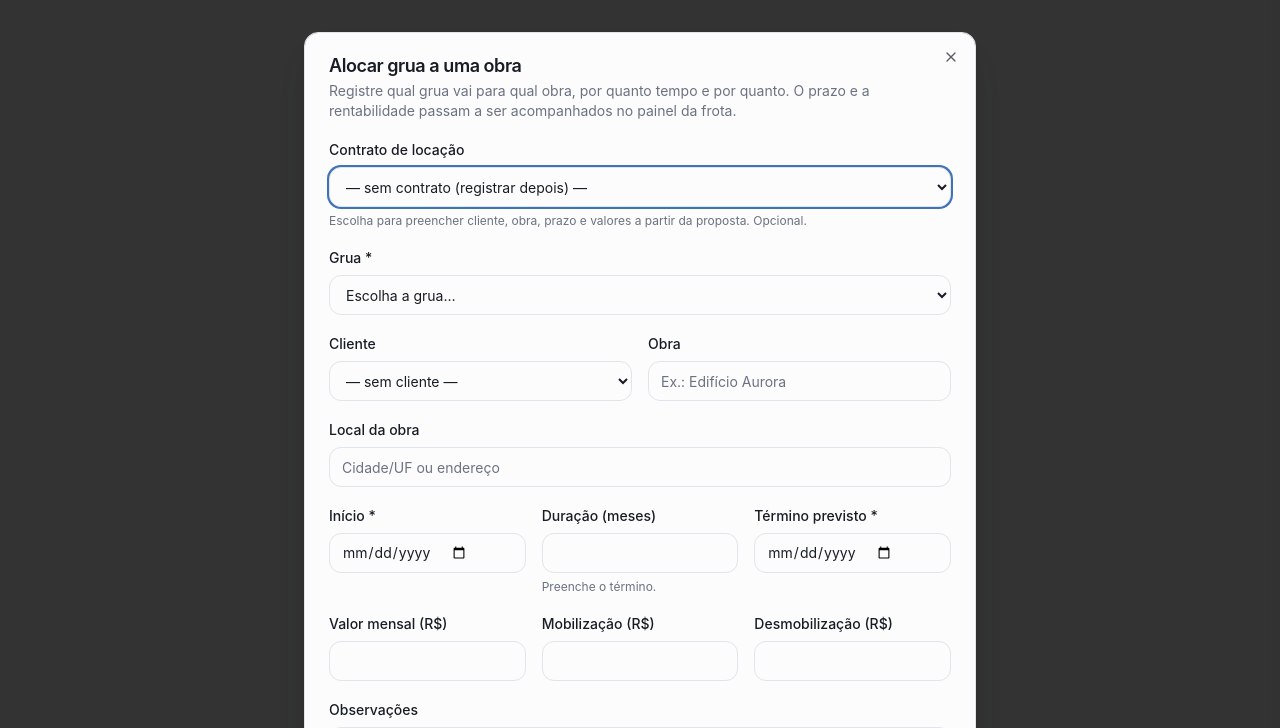
alocar grua a uma obra › sem contrato fixo: escolher um contrato traz os dados da proposta
The image size is (1280, 728).
Select "CTR260009 — Beta Ltda (assinado)" in the dropdown labelled "Contrato de locação" at (640, 187), box [329,167,951,207]
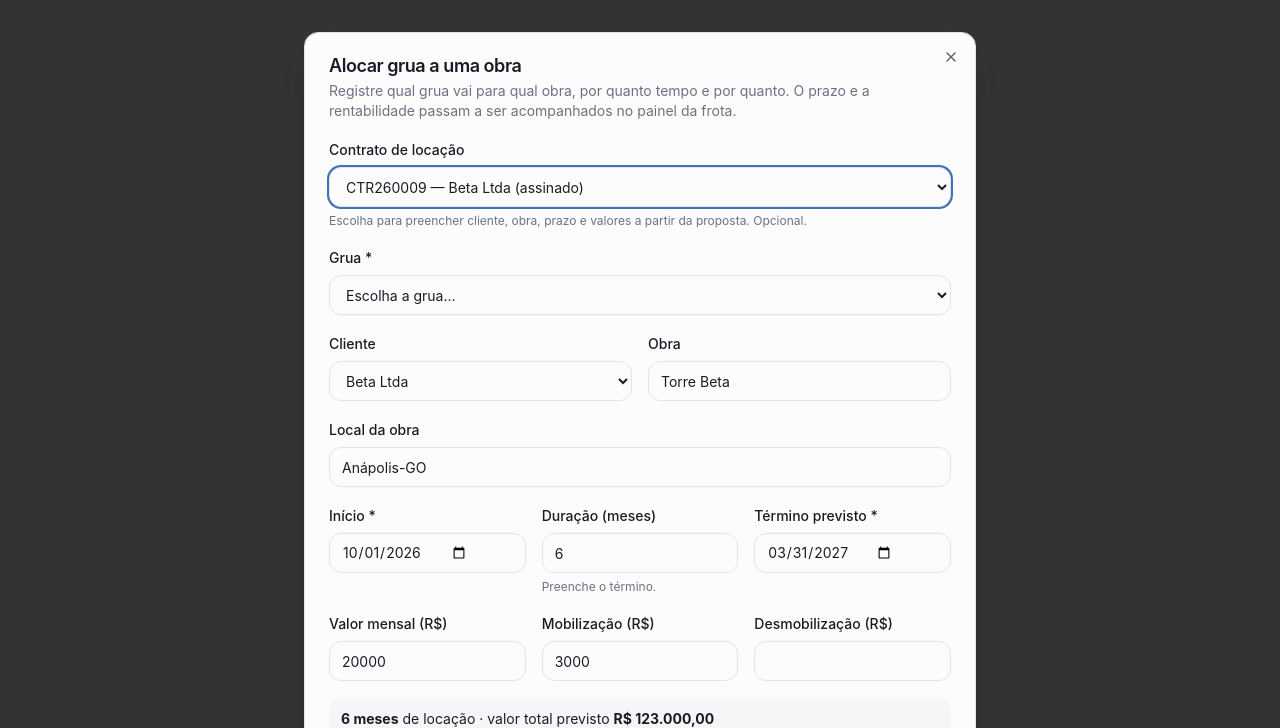
expect the field labelled "Obra" holds "Torre Beta": met, box [648,361,951,401]
expect the dropdown labelled "Cliente" shows "Beta Ltda": met, box [329,361,632,401]
expect the date field labelled "Término previsto *" holds "2027-03-31": met, box [754,533,951,573]
